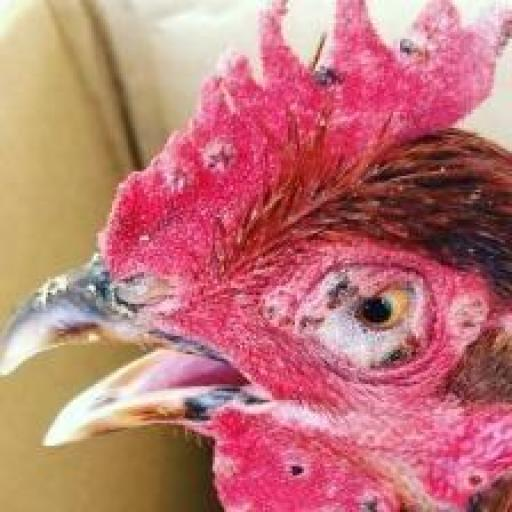disease: (99, 0, 510, 262), (279, 231, 510, 398), (201, 400, 508, 510)
